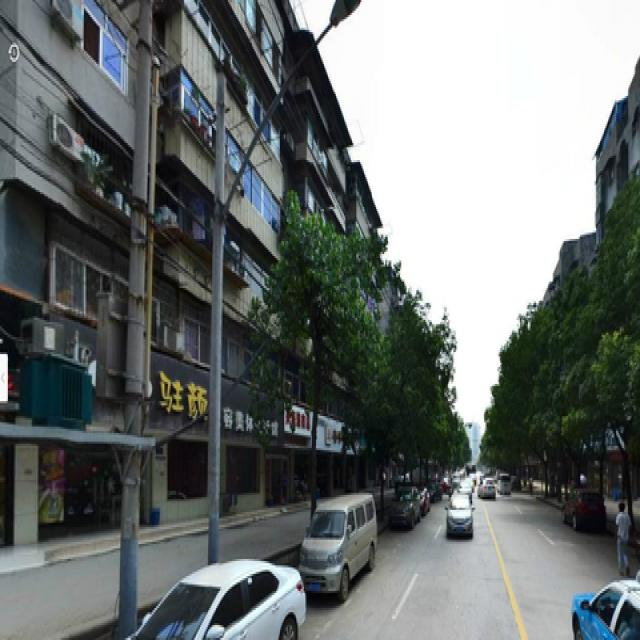cinn: (284, 215, 351, 527)
